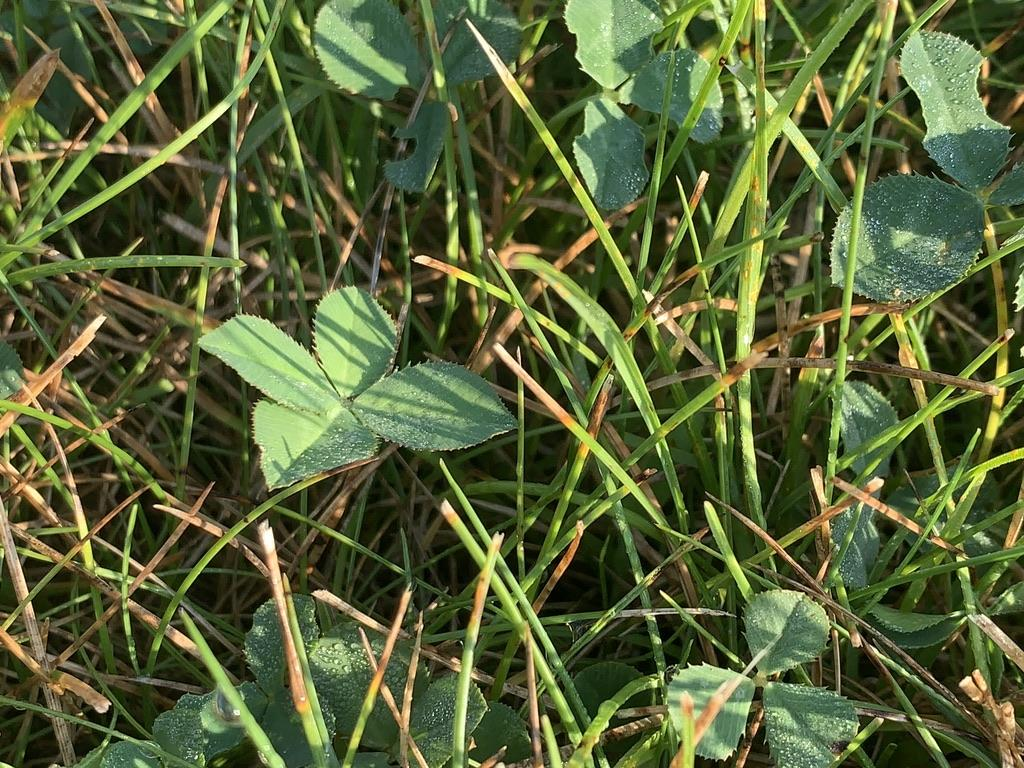4-Leaf-Clovers: (204, 282, 516, 491)
